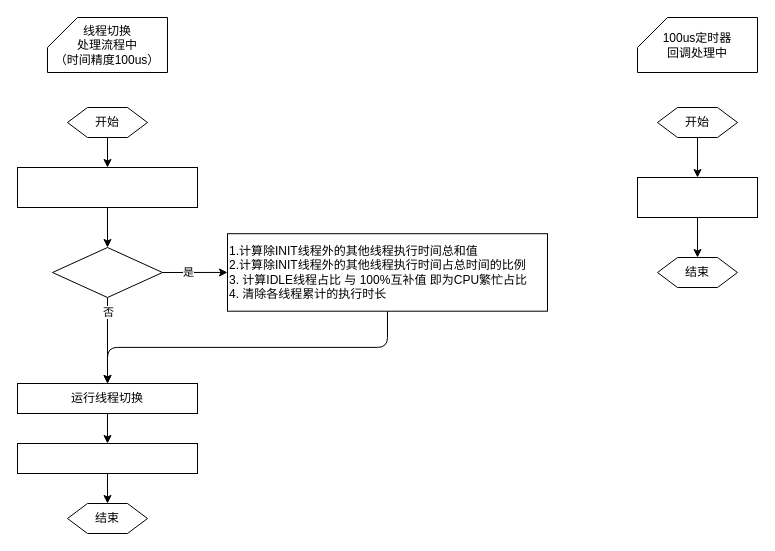
Some shapes in this 775 by 551 pixel diagram are drawn without their labels. Here are the shapes that lost their labels. From the top down, the centre of each, then its label:
At [107,187]: "当前运行线程切出前 累计其执行的时长".
At [697,197]: "100us计数器累加".
At [107,272]: "统计时间 (200ms)到？".
At [107,458]: "记录切入线程的启动时刻".
